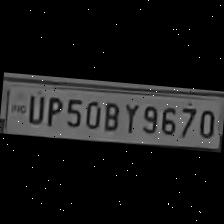0: (194, 105, 218, 139), (82, 96, 102, 130)
5: (60, 93, 84, 128)
6: (155, 102, 178, 136)
7: (176, 103, 196, 138)
9: (138, 100, 159, 134)
B: (98, 98, 120, 132)
P: (42, 92, 62, 128)
U: (22, 90, 44, 124)
Y: (120, 99, 140, 134)
